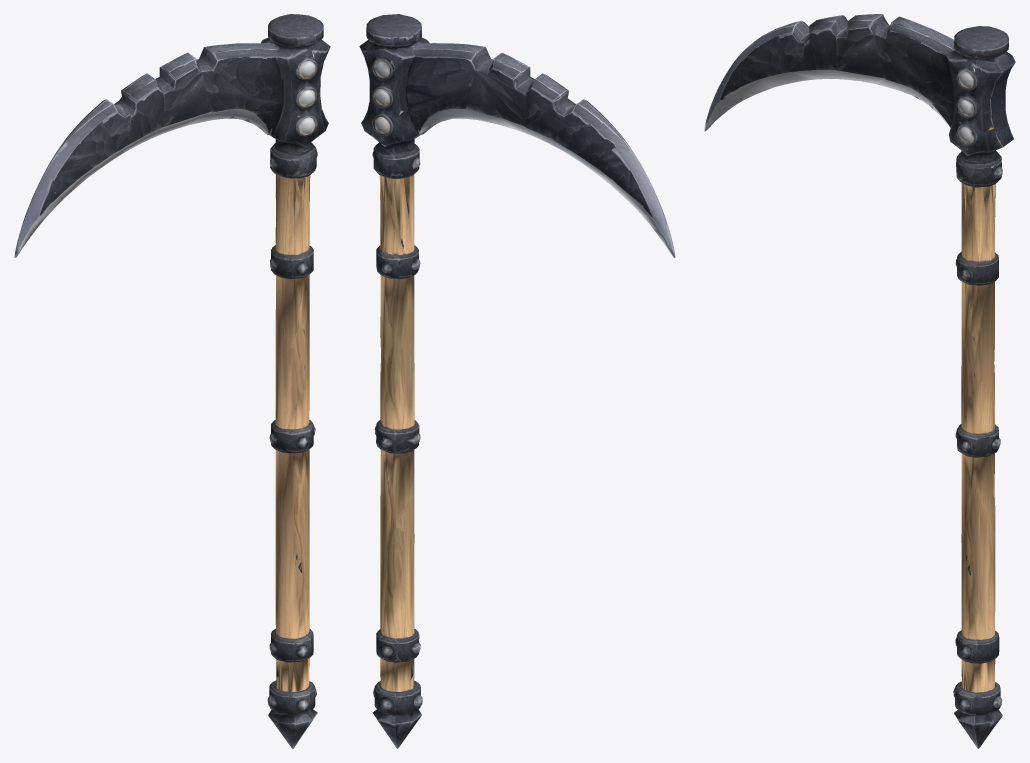
File: ForgeScythe.fbx
3 renders of one model, left to right at view 1: azimuth 30°, elevation 25°; view 2: azimuth 150°, elevation 25°; view 3: azimuth 330°, elevation 25°, orthographic.
Parts seen in each view (by area): view 1: Head, Shaft; view 2: Head, Shaft; view 3: Head, Shaft.
Part boxes in pixels (x1,y1,x2,y2): Head: (14, 14, 330, 257); Shaft: (267, 174, 317, 748); Head: (359, 14, 675, 257); Shaft: (372, 174, 422, 748); Head: (704, 14, 1015, 226); Shaft: (953, 183, 1002, 748).
Bounding box in the file's own units: 3.58 × 8 × 0.6035.
1 material, 1 textured.
